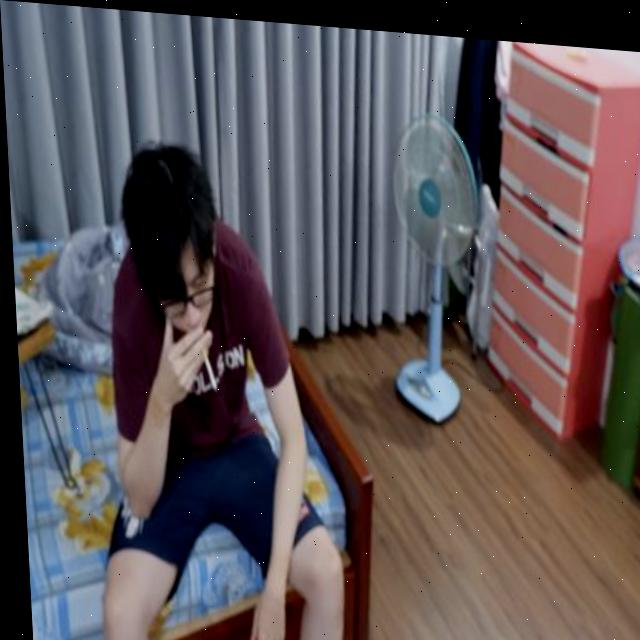cigarette: (198, 343, 215, 391)
